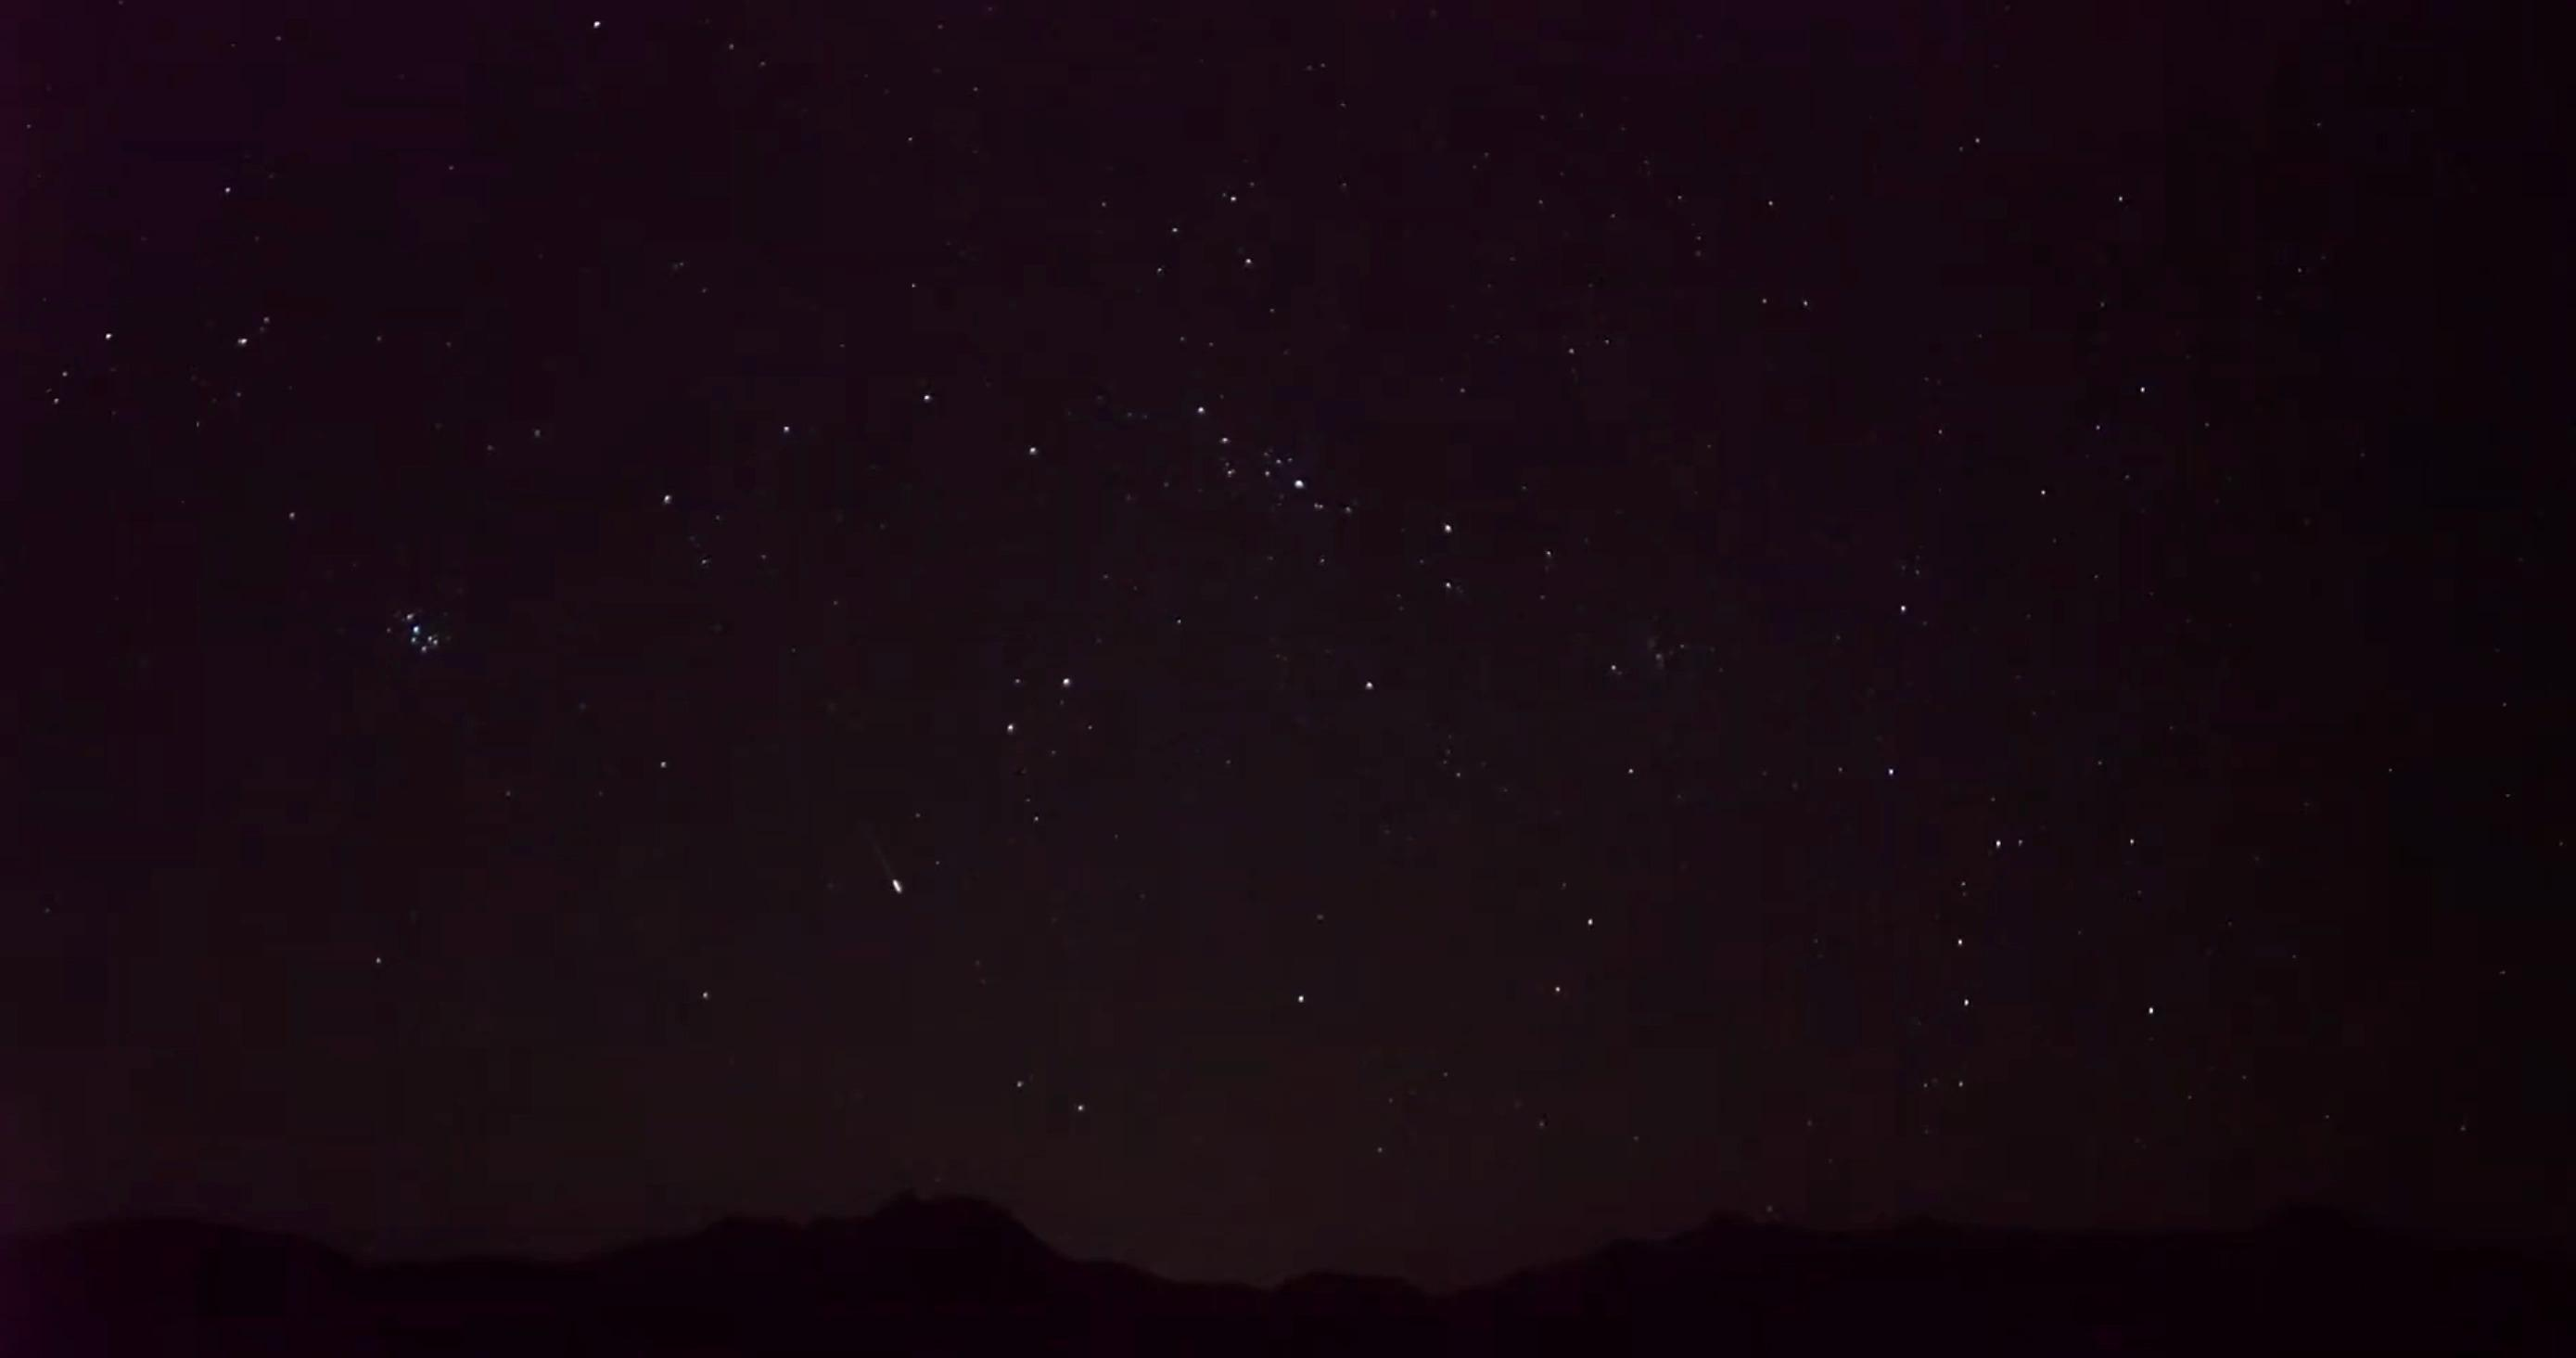meteorite: (847, 847, 929, 905)
